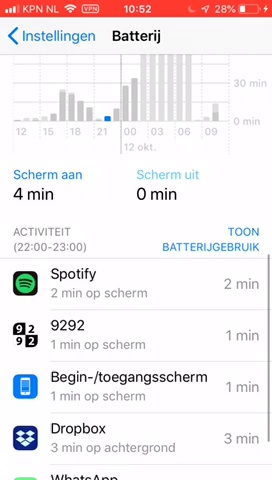activity: (9, 224, 95, 255)
app: (9, 264, 264, 304), (8, 316, 263, 356), (8, 367, 263, 407), (8, 416, 263, 456)
